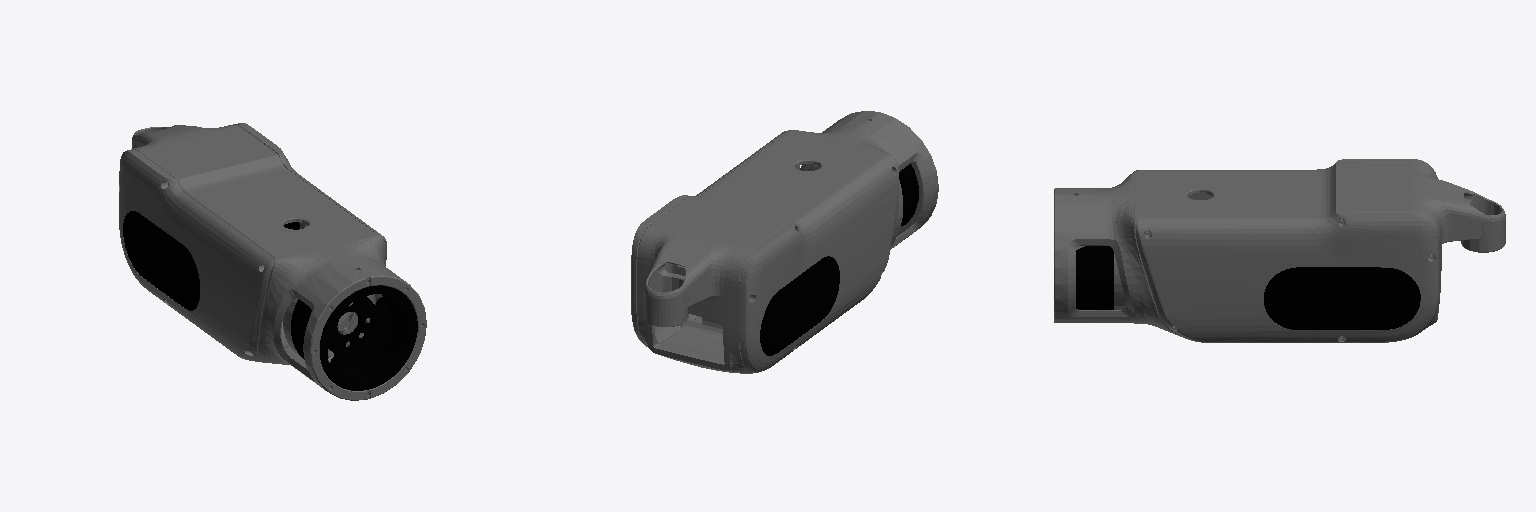
File: right_hand_yaw_link.obj
The picture shows the model from 3 angles: view 1: azimuth 30°, elevation 25°; view 2: azimuth 150°, elevation 25°; view 3: azimuth 270°, elevation 25°; orthographic projection.
Visible parts, largest first — view 1: right_hand_yaw_link; view 2: right_hand_yaw_link; view 3: right_hand_yaw_link.
Part boxes in pixels (x1,y1,x2,y2): right_hand_yaw_link: (119,123,426,400); right_hand_yaw_link: (631,111,938,373); right_hand_yaw_link: (1054,159,1505,342).
Size of the model in its own units: 0.0676 by 0.0694 by 0.207.